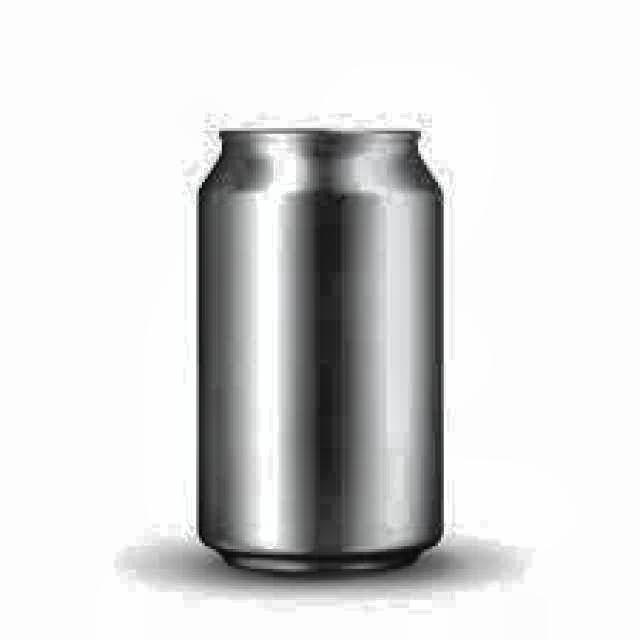can: (181, 117, 454, 585)
